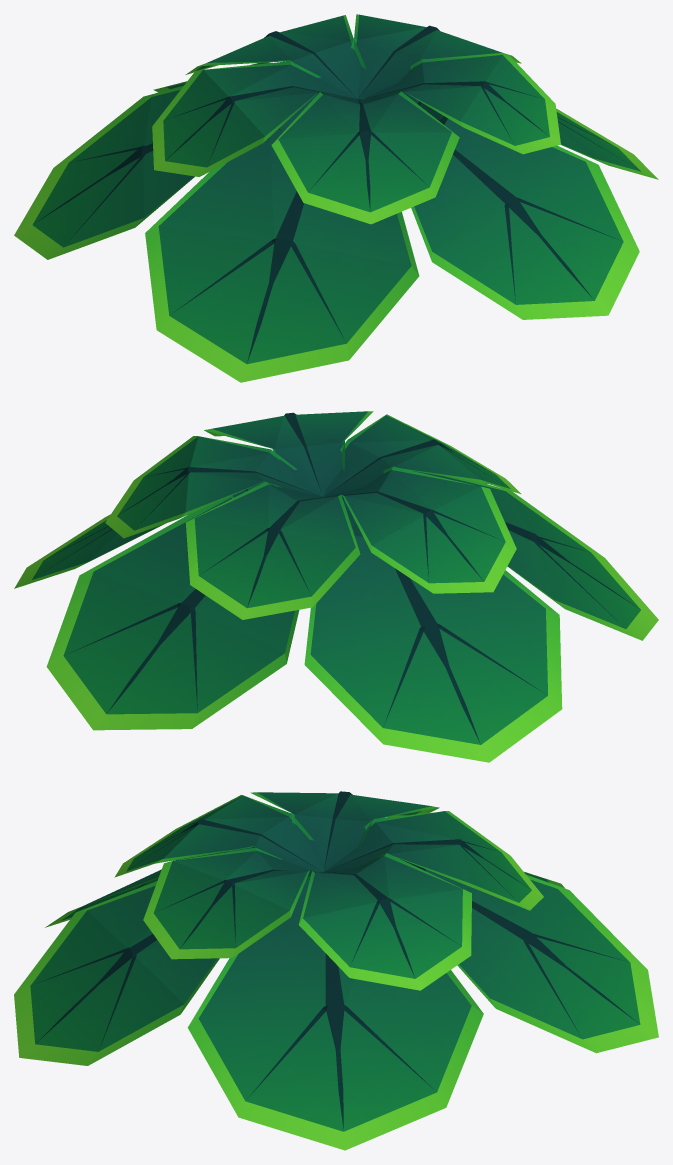
The model's file is Bush_GrassClumpie.fbx.
3 views of the same model, one above another, from view 1: azimuth 30°, elevation 25°; view 2: azimuth 150°, elevation 25°; view 3: azimuth 270°, elevation 25° (orthographic). The views are drawn at different scales.
Parts seen in each view (by area): view 1: Grass Clumpie; view 2: Grass Clumpie; view 3: Grass Clumpie.
Part boxes in pixels (bbox=[...]): Grass Clumpie: bbox=[14, 14, 658, 382]; Grass Clumpie: bbox=[14, 411, 658, 762]; Grass Clumpie: bbox=[14, 791, 658, 1150].
Bounding box in the file's own units: 102 × 31.36 × 99.57.
